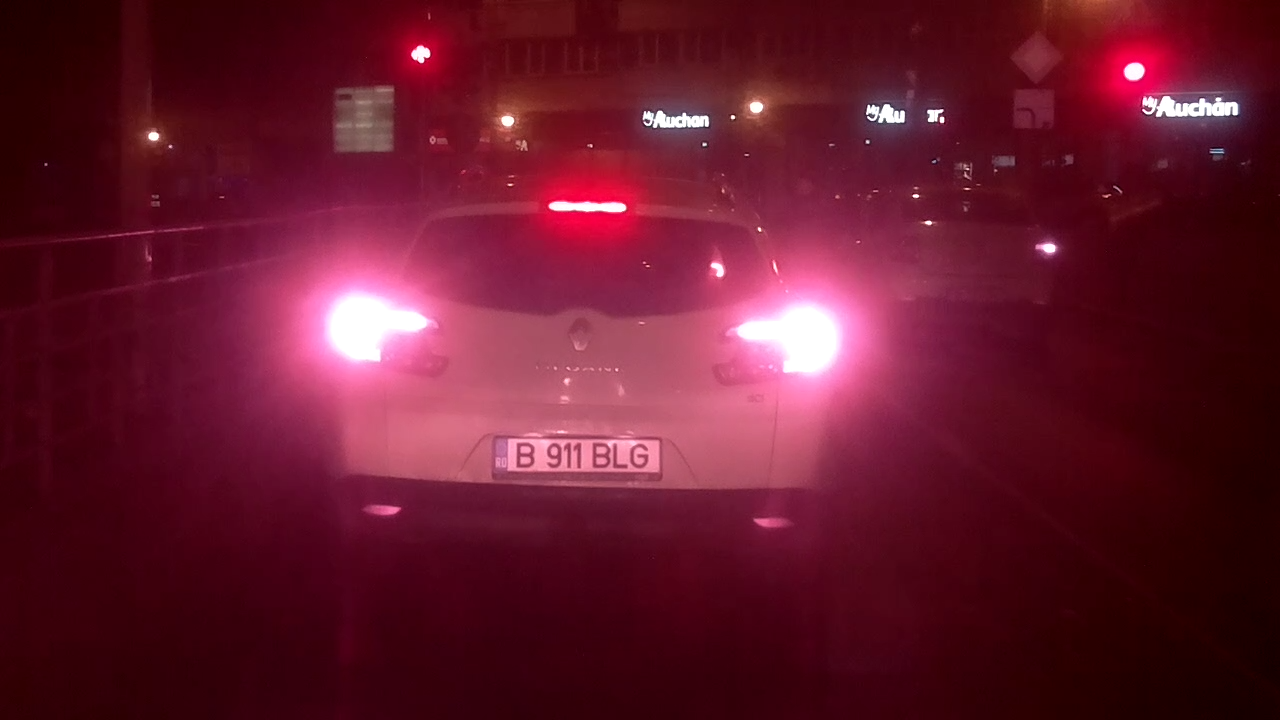license-plate: (487, 429, 666, 480)
